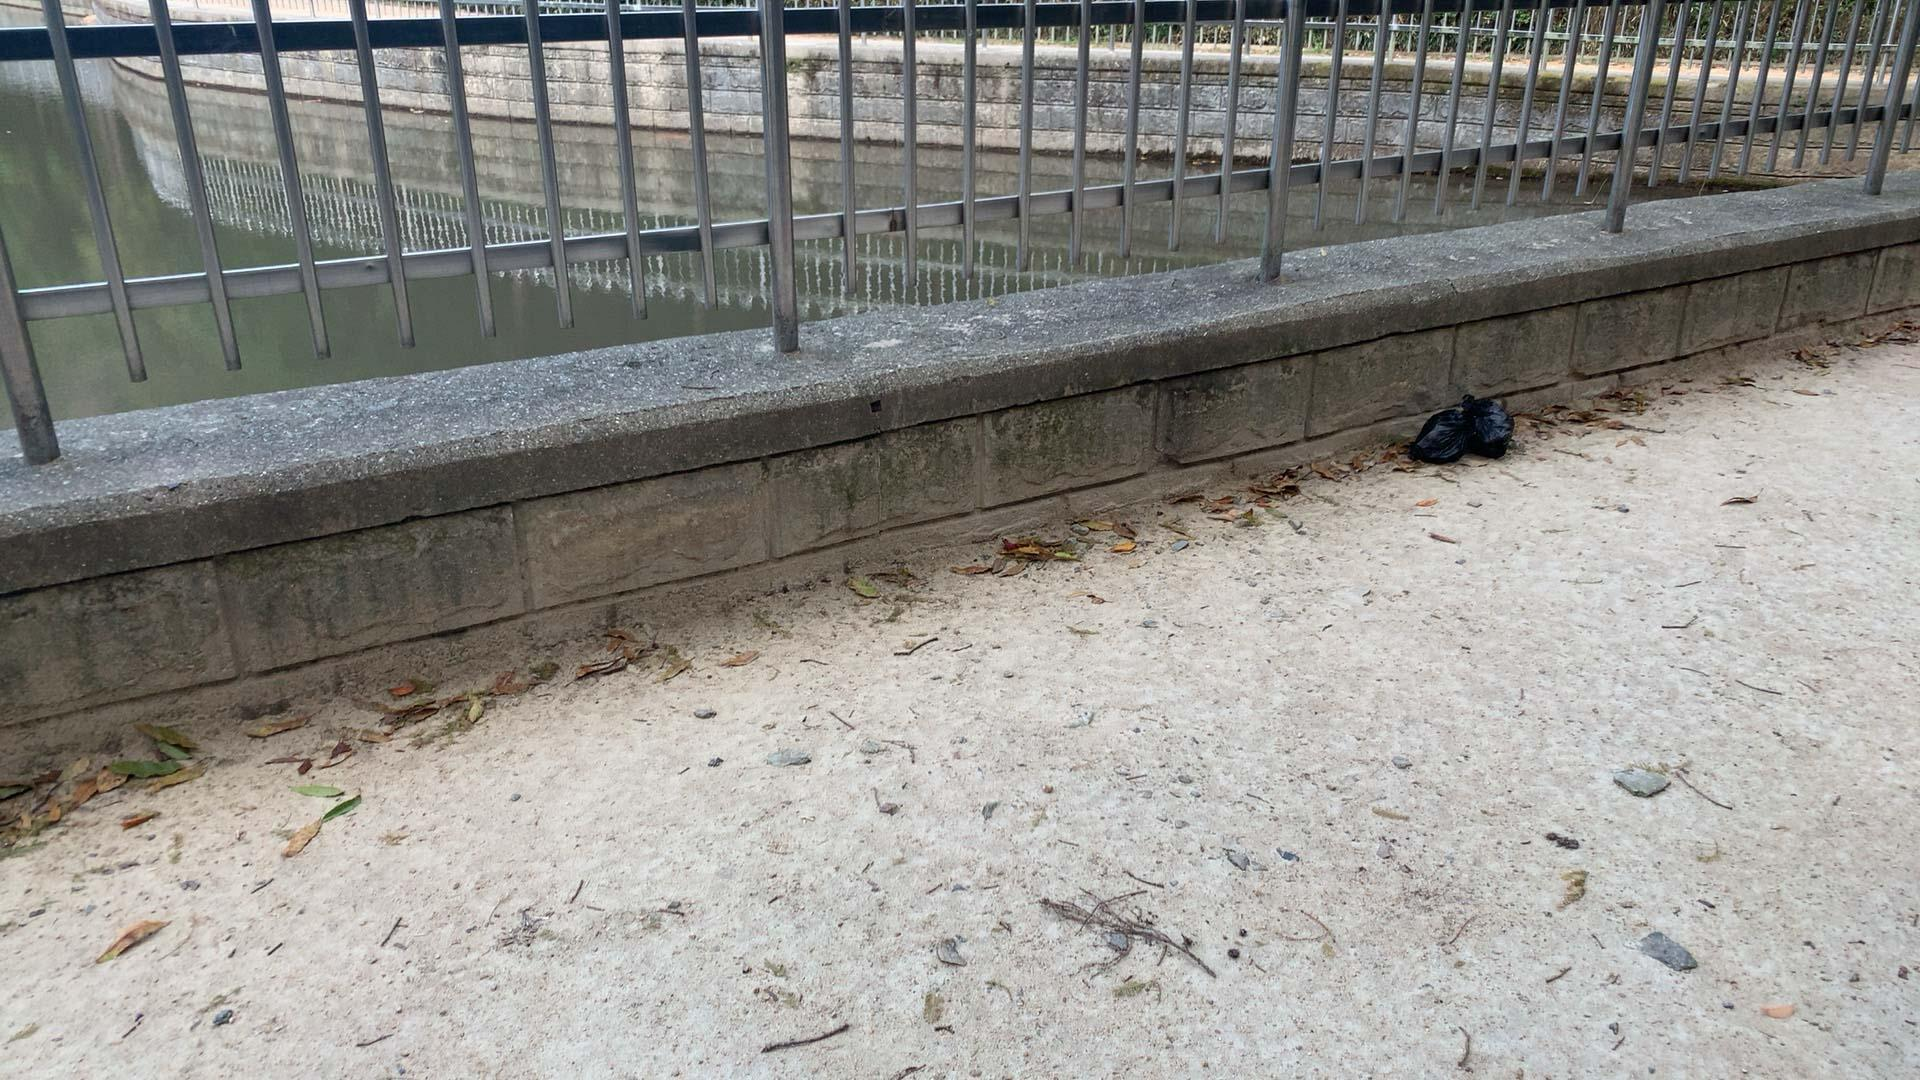black_bag: (1407, 402, 1474, 463), (1458, 389, 1513, 458)
